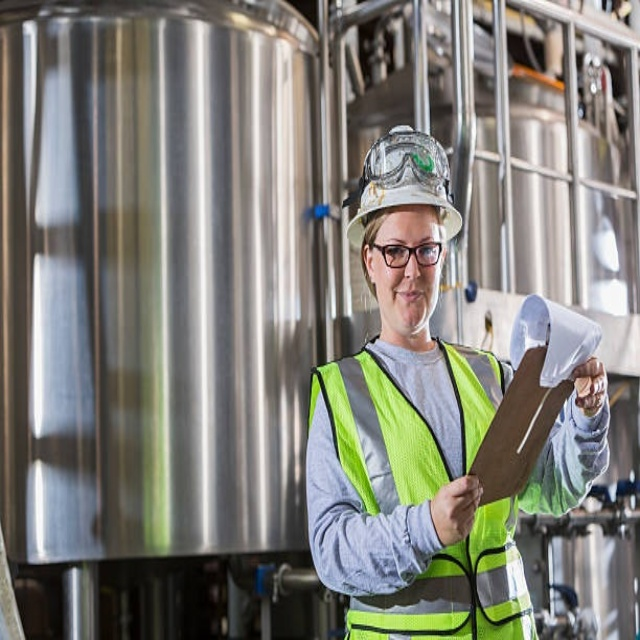Gafas: (370, 237, 447, 267)
Sin_guantes: (431, 474, 485, 547), (569, 356, 608, 414)
Sin_mascara: (388, 278, 431, 318)
